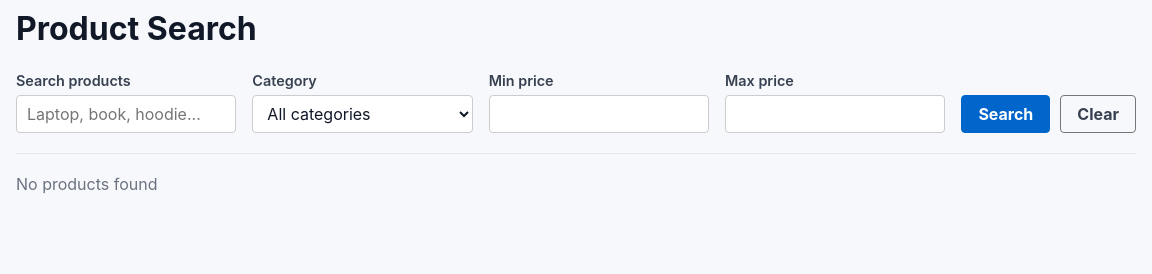
Test: ProductSearch › shows error message on API failure
This screenshot has width=1152, height=274.
Click the button with test id "search-button". click: (1006, 114)
box: x1=961 y1=95 x2=1050 y2=133
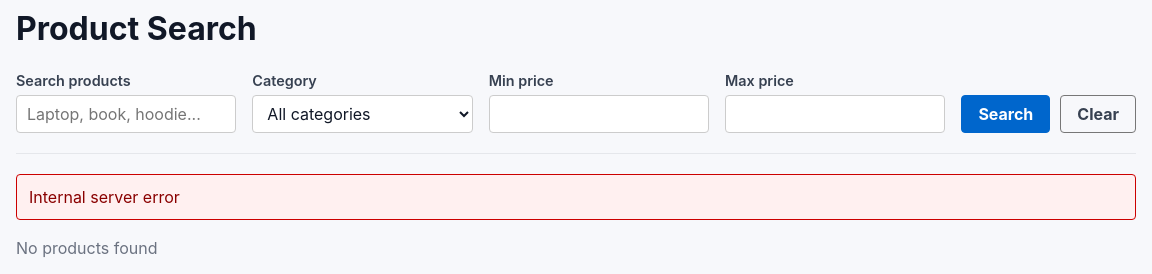
Expected: the message with test id "error-message" reads "Internal server error", x1=29 y1=187 x2=180 y2=207
